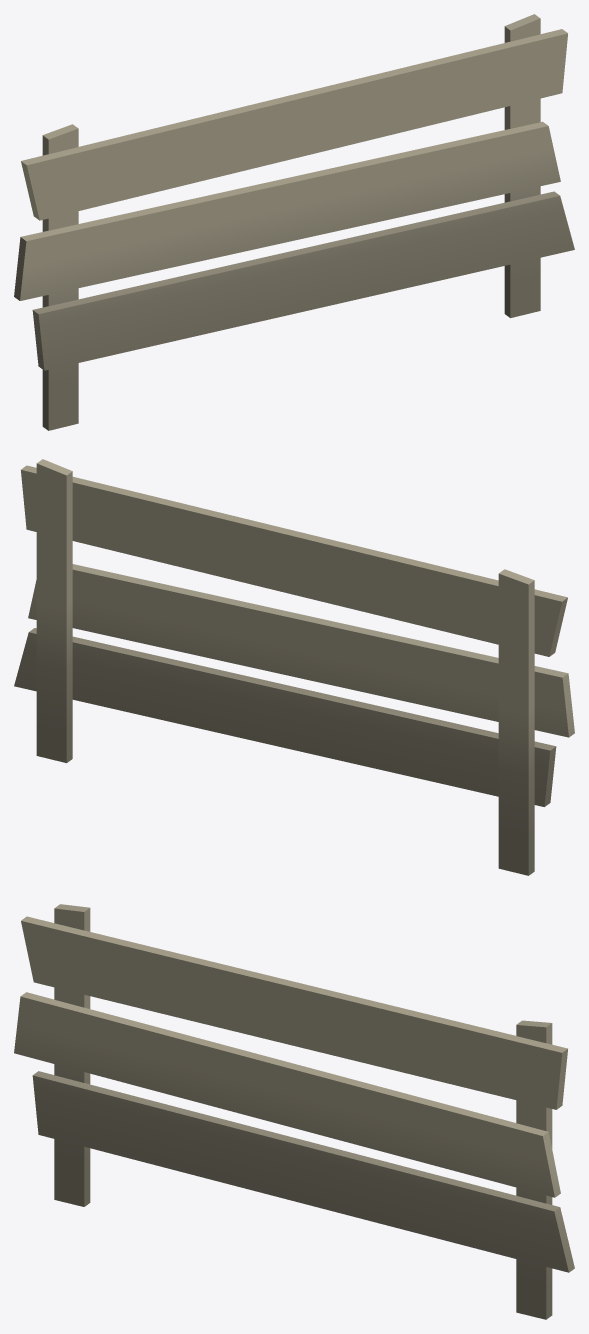
Rendered from Fence Wood V4 1.glb.
3 renders of one model, top to bottom at view 1: azimuth 30°, elevation 25°; view 2: azimuth 150°, elevation 25°; view 3: azimuth 330°, elevation 25°, orthographic.
Visible parts, largest first — view 1: Fence Wood V4 1; view 2: Fence Wood V4 1; view 3: Fence Wood V4 1.
Boxes of the visible parts, x1,y1,x2,y2 form: Fence Wood V4 1: (14,14,574,430); Fence Wood V4 1: (14,459,574,875); Fence Wood V4 1: (14,904,574,1319).
Size of what is drawn, in the model's own units: 2.99 by 1.52 by 0.1102.
Materials: 1 (1 with a texture image).
